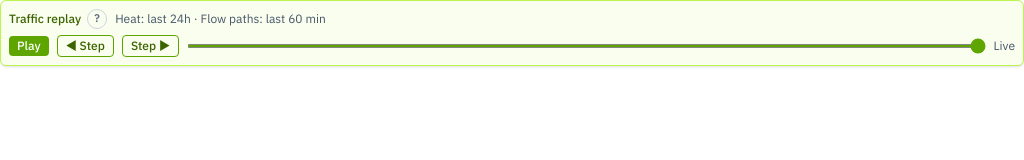
Test: FlowReplayPanel — the two honest empty cases › says ingestion is not enabled when the cluster-wide probe finds nothing at all
Click the button with aria-label "Step back one frame" at (85, 46), box [57,35,114,57]
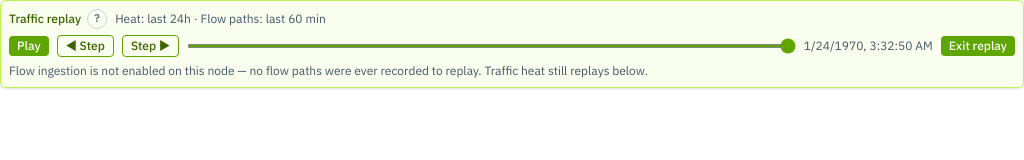
Result: the text "Traffic heat still replays" is shown at [9,63,648,78]
